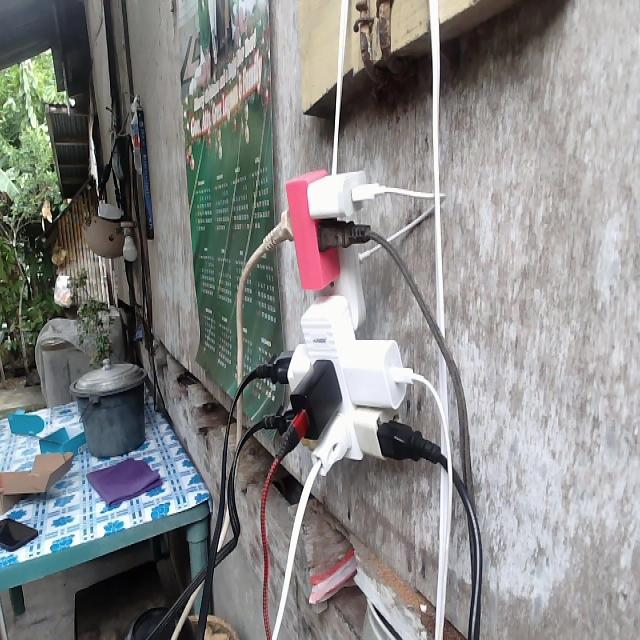-: (251, 165, 446, 475)
